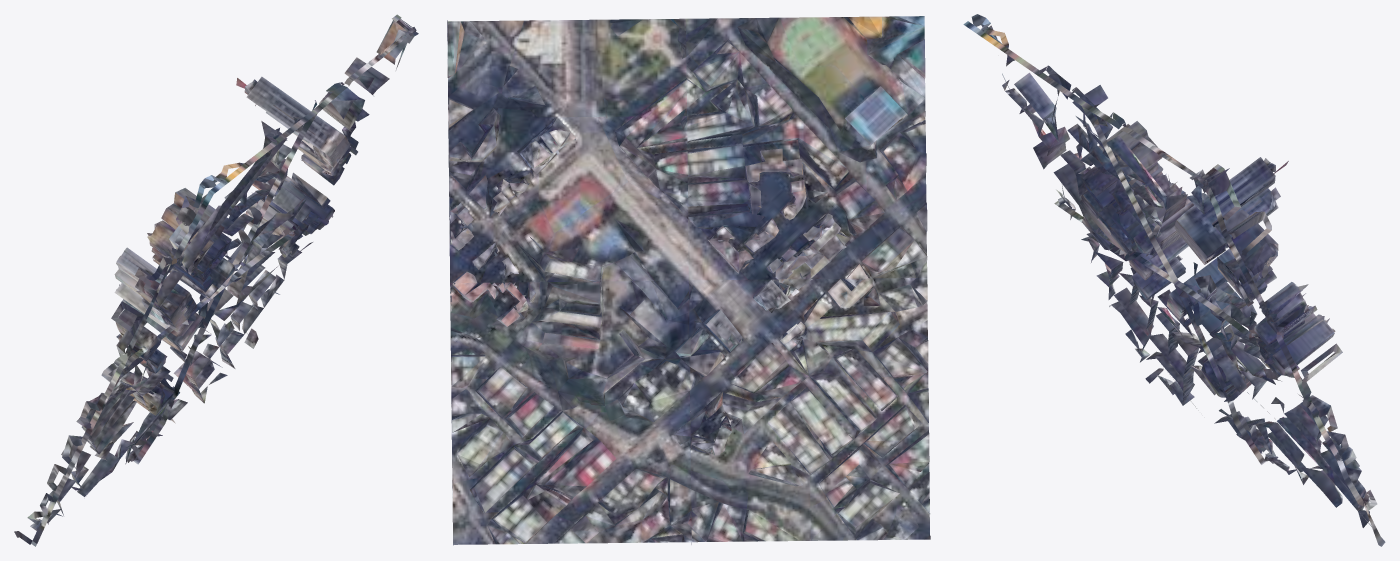
The picture shows the model from 3 angles, left to right: view 1: azimuth 30°, elevation 25°; view 2: azimuth 150°, elevation 25°; view 3: azimuth 270°, elevation 25°; orthographic projection. The views are drawn at different scales.
Bounding box in the file's own units: 622 × 571 × 519.
Materials: 2 (2 with a texture image).
